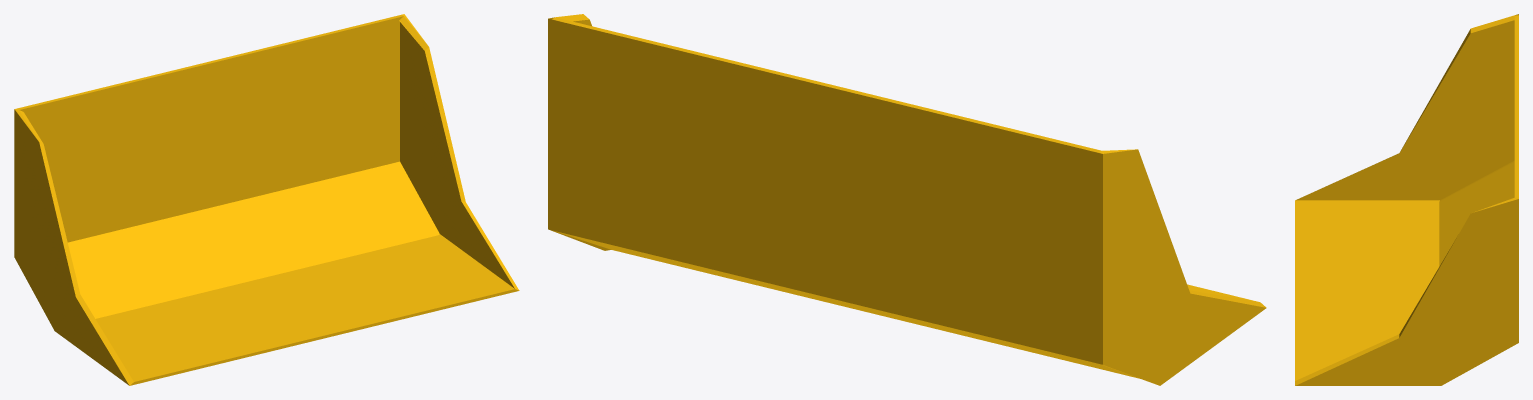
Rendered from dahpor.fbx.
3 views of the same model, side by side, from view 1: azimuth 30°, elevation 25°; view 2: azimuth 150°, elevation 25°; view 3: azimuth 270°, elevation 25° (orthographic). The views are drawn at different scales.
Visible parts, largest first — view 1: Cube; view 2: Cube; view 3: Cube.
Part boxes in pixels (<box>): Cube: <box>14,14,519,385</box>; Cube: <box>548,14,1266,385</box>; Cube: <box>1295,14,1518,385</box>.
Bounding box in the file's own units: 192 × 90.42 × 98.06.
